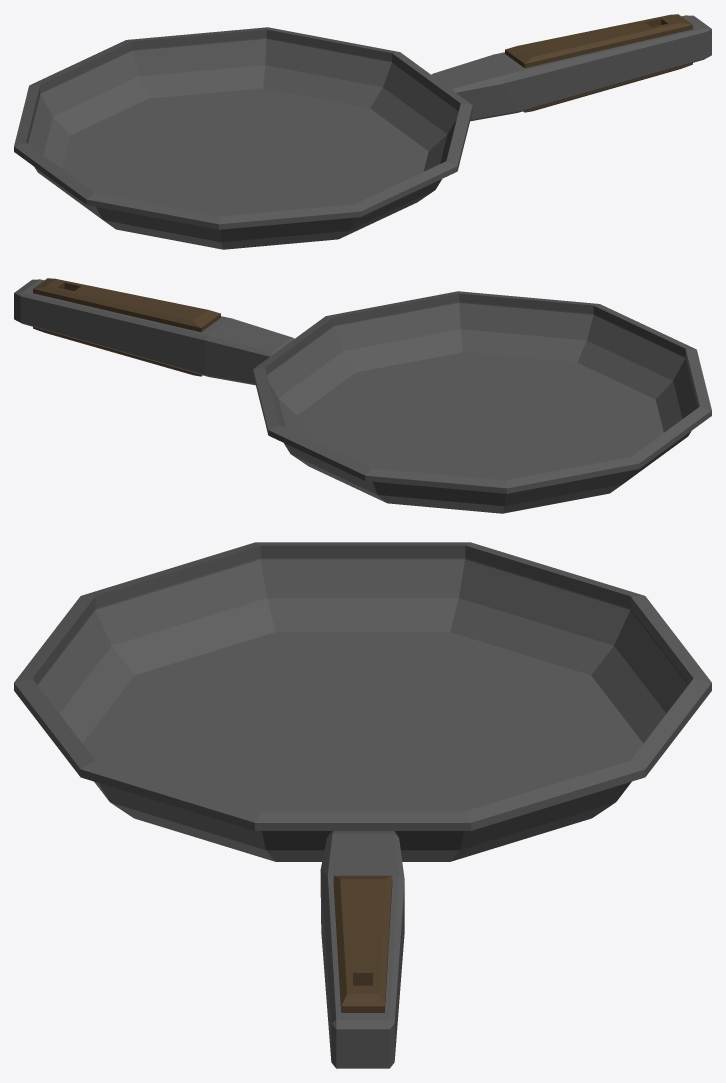
File: Сковородка.fbx
3 views of the same model, one above another, from view 1: azimuth 30°, elevation 25°; view 2: azimuth 150°, elevation 25°; view 3: azimuth 270°, elevation 25° (orthographic). The views are drawn at different scales.
Parts seen in each view (by area): view 1: Circle.001; view 2: Circle.001; view 3: Circle.001.
Part boxes in pixels (box(x1,y1,x2,y2)): Circle.001: box(14, 14, 711, 249); Circle.001: box(14, 278, 711, 513); Circle.001: box(14, 542, 711, 1068).
Bounding box in the file's own units: 396 × 31.4 × 246.
